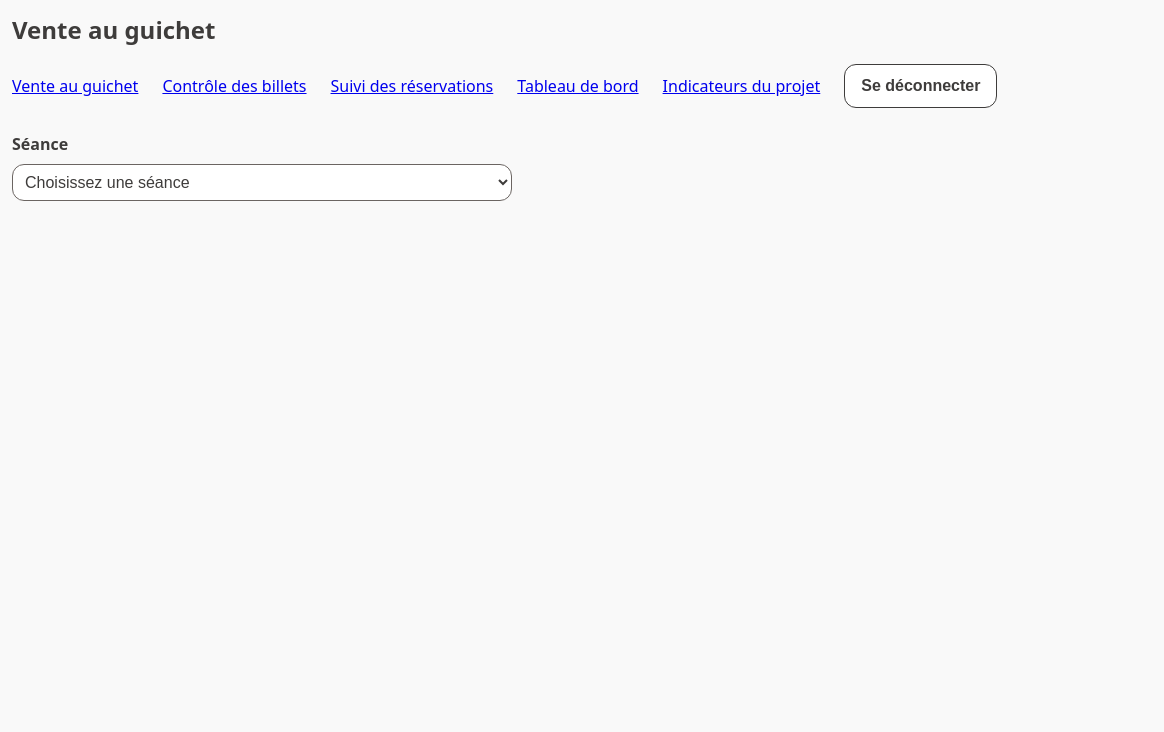
Scenario: BoxOfficePage (US 7.2) › affiche le même plan de salle et les mêmes tarifs que le site
Select "ven. 9 oct. 20:30 · Le jazz à Mende · Salle 1 - IMAX" in the dropdown labelled "Séance". click: (262, 182)
box: [12,164,512,201]
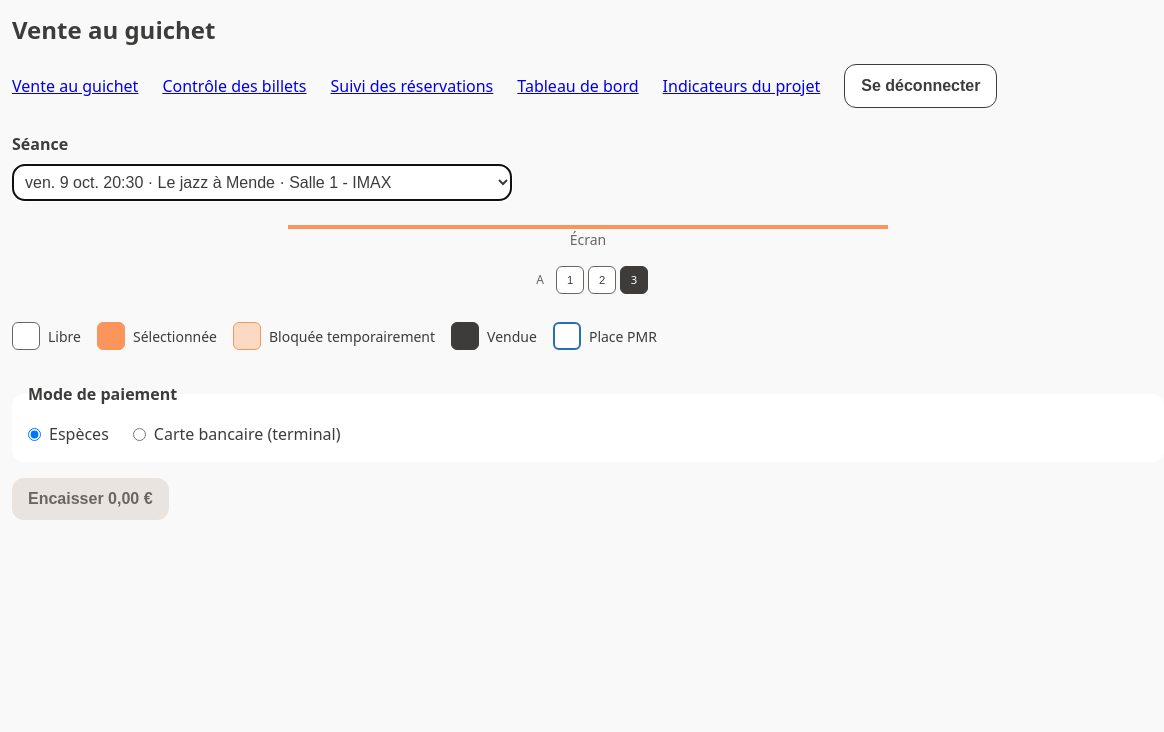
Click the button named "A1 libre". click: (570, 280)
box: [556,266,584,294]
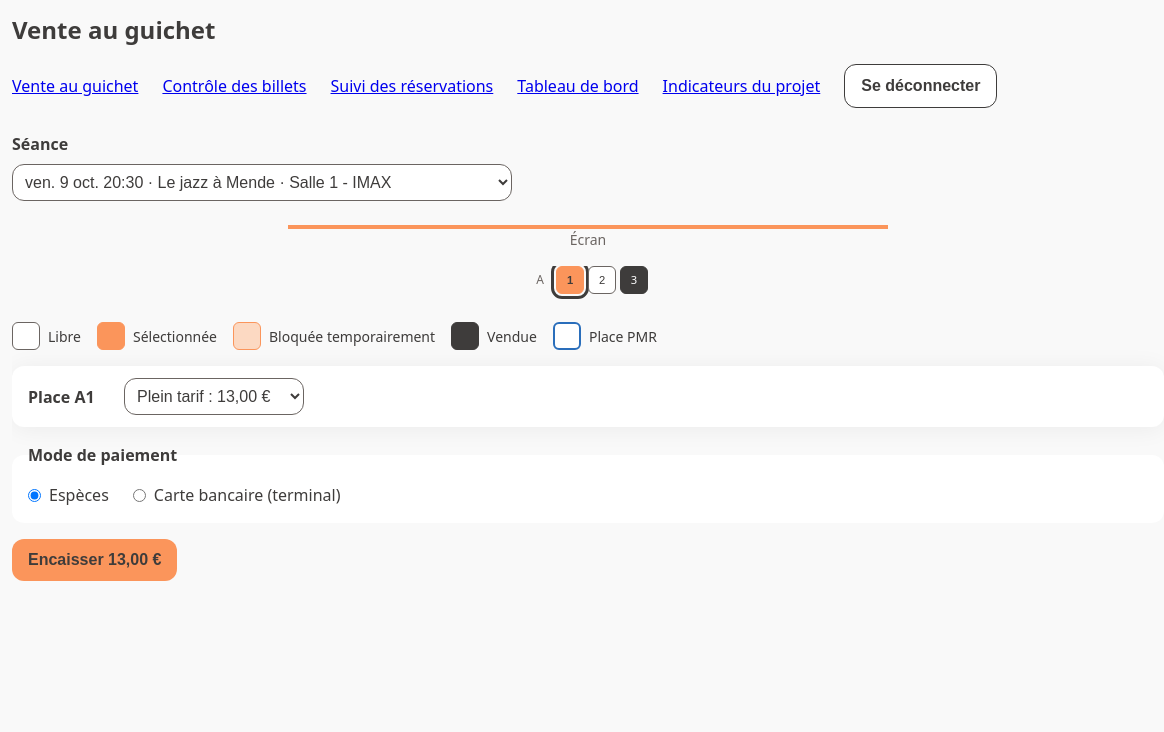
Click the button named "A2 libre". click: (602, 280)
box: [588,266,616,294]
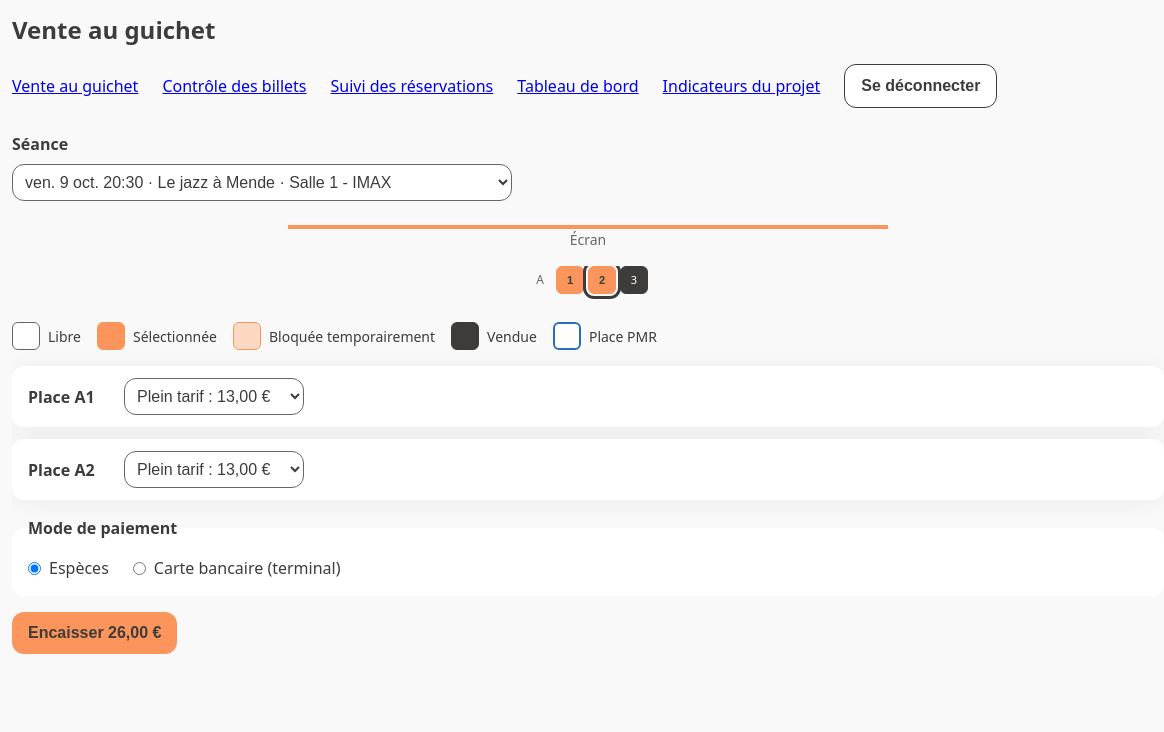
Now the text named "A3 vendue" is shown, box [620,266,648,294]
Now the dropdown labelled "Place A1" shows "Plein tarif : 13,00 €"
Now the button "Encaisser 26,00 €" is shown, box [12,612,177,654]
Select "Tarif réduit : 10,50 €" in the dropdown labelled "Place A1". click: (214, 396)
box: [124,378,304,415]
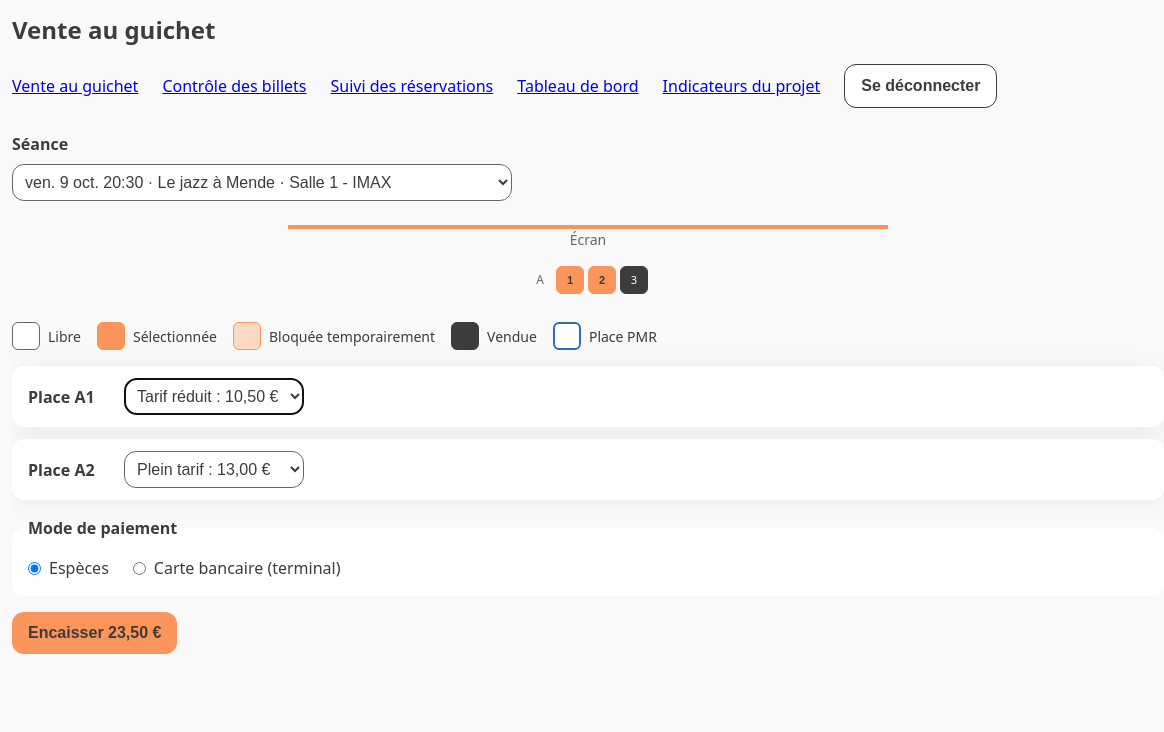
Now the button "Encaisser 23,50 €" is shown, box [12,612,177,654]
